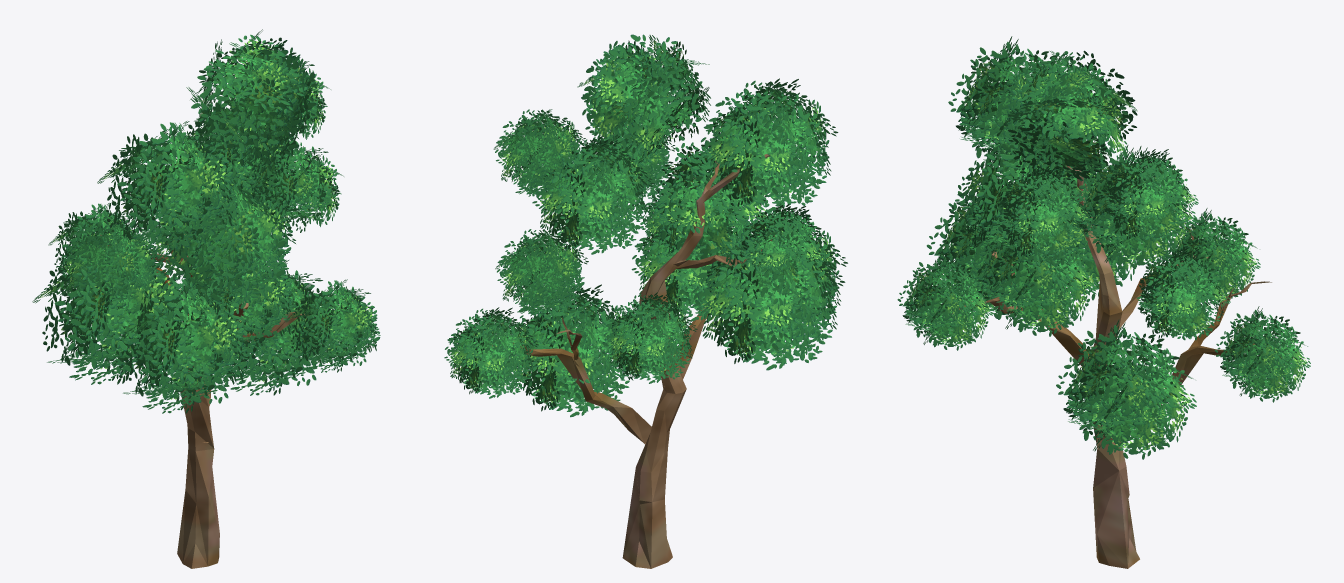
Rendered from Tree 2.fbx.
The picture shows the model from 3 angles, left to right: view 1: azimuth 30°, elevation 25°; view 2: azimuth 150°, elevation 25°; view 3: azimuth 270°, elevation 25°; orthographic projection. The views are drawn at different scales.
Parts seen in each view (by area): view 1: Tree2; view 2: Tree2; view 3: Tree2.
Part boxes in pixels (left/top/right/bottom): Tree2: left=32, top=29, right=380, bottom=568; Tree2: left=444, top=34, right=847, bottom=568; Tree2: left=897, top=36, right=1310, bottom=568.
Size of the model in its own units: 322 by 480 by 356.
